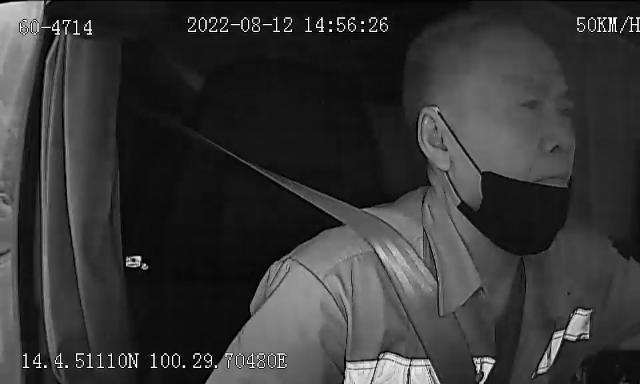SafeDriving: (512, 81, 548, 117)
Seatbelt: (203, 138, 482, 384)
